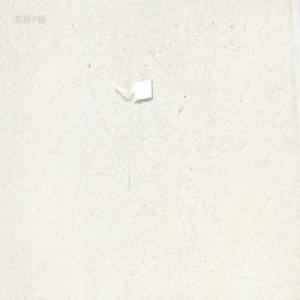LuggageTag: (111, 77, 153, 103)
